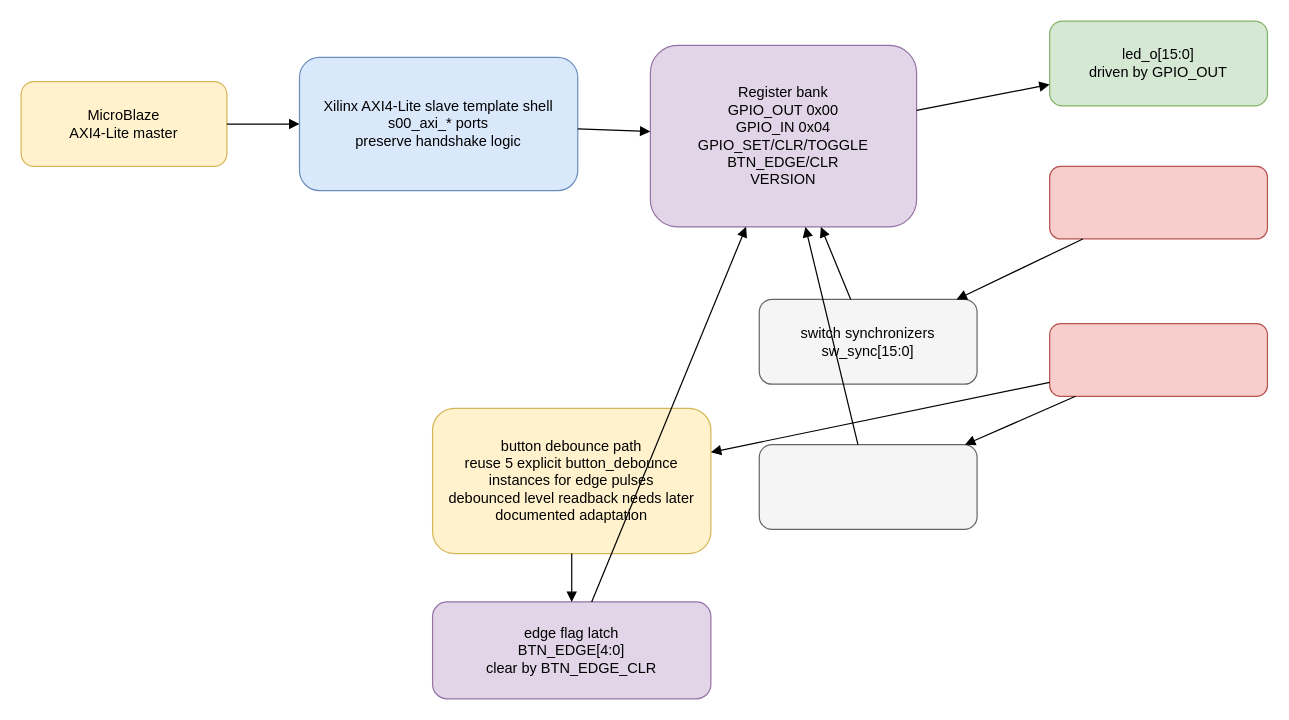
Some shapes in this 1289 by 720 pixel diagram are drawn without their labels. The shapes that lost their labels are listed below. From the top down, each one's centre as x and y in pixels, then its label:
the point at 1157,202: sw_i[15:0] async switches
the point at 1157,359: btn_i[4:0] async buttons
the point at 867,486: button raw synchronizers btn_raw_sync[4:0]
